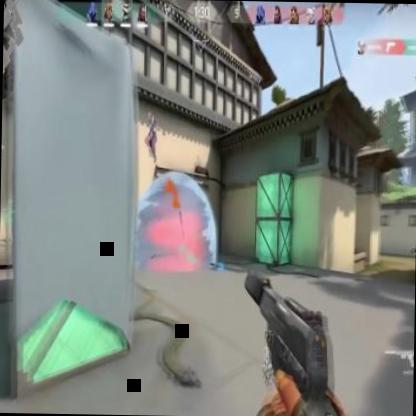enemy: (144, 112, 158, 166)
enemy_head: (146, 110, 152, 121)
